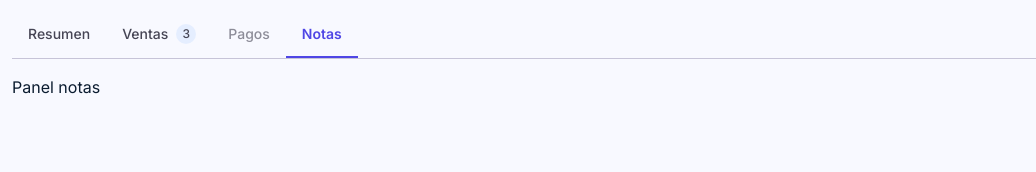
Tabs › modo controlado › sigue al estado del padre
Expected: the panel reads "Panel notas", [12, 77, 100, 97]
Step 1. Click the tab "Resumen" → click(59, 35), box [12, 12, 106, 58]
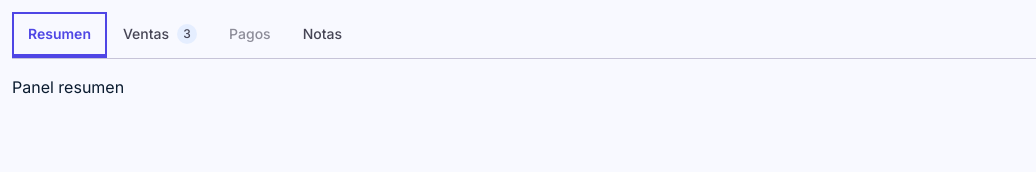
Now the panel reads "Panel resumen", box [12, 77, 124, 97]
